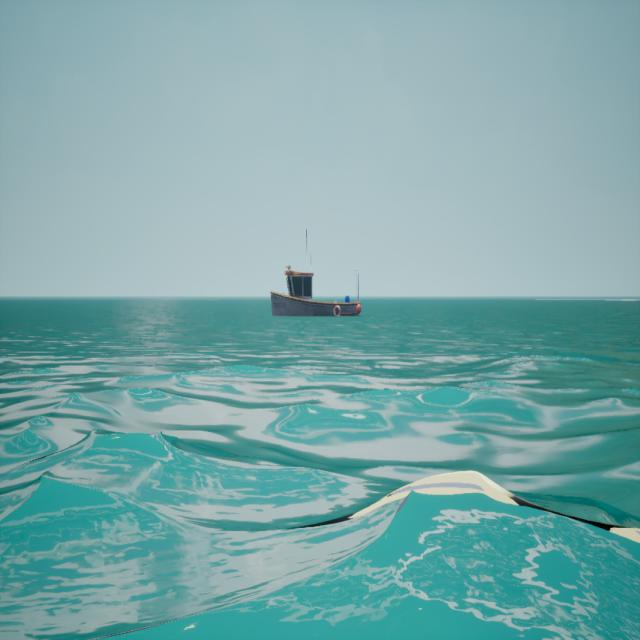ship: (262, 220, 374, 329)
